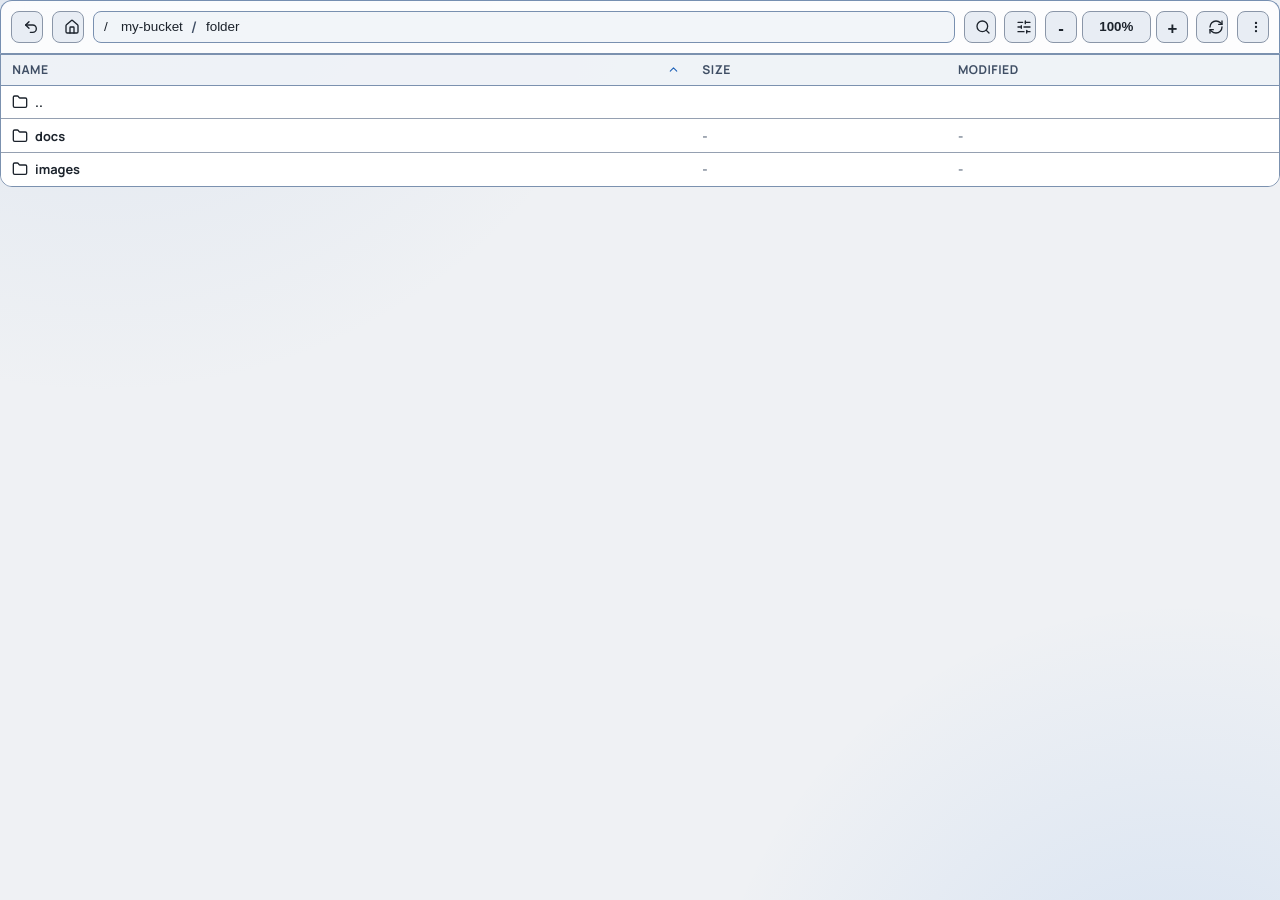
Test: BrowserPage breadcrumb editing › resets breadcrumb draft and hints when re-entering edit mode
Click the element with test id "breadcrumb-trail" at (524, 27), box [92, 11, 955, 43]
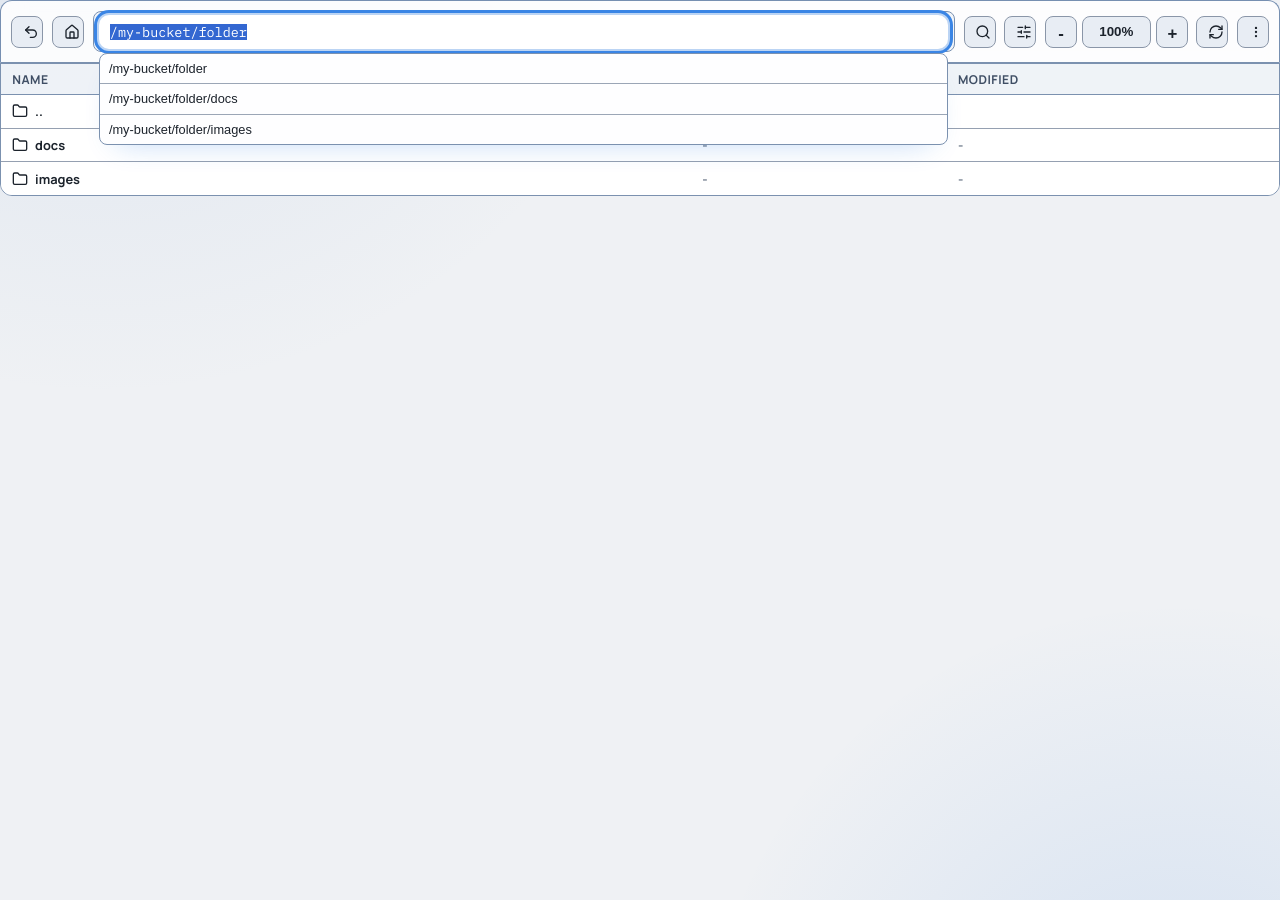
Replace the text in the field named "Breadcrumb path" with "/my-bucket/folder/do" at (524, 32), box [99, 15, 948, 48]
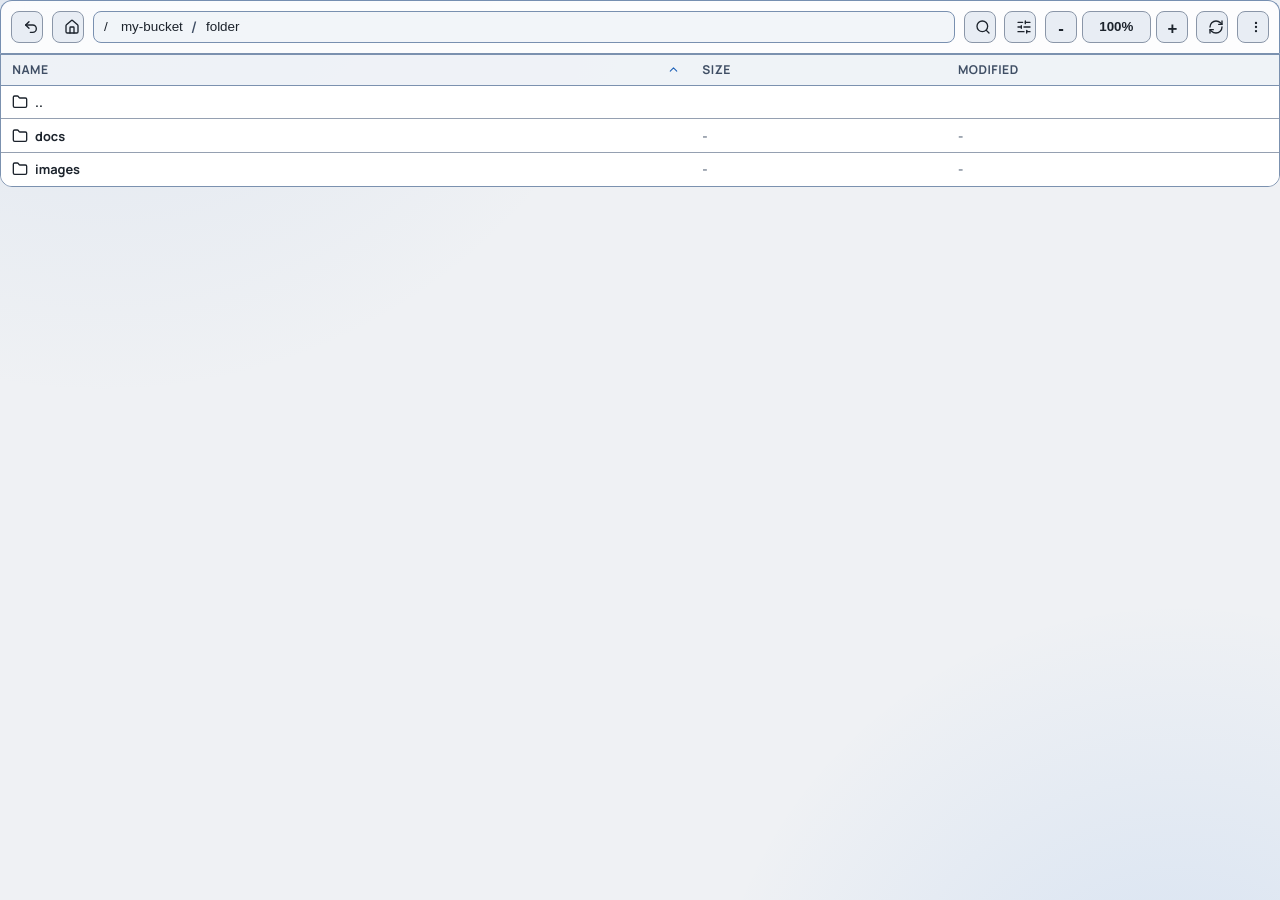
Click the element with test id "breadcrumb-trail" at (524, 27), box [92, 11, 955, 43]
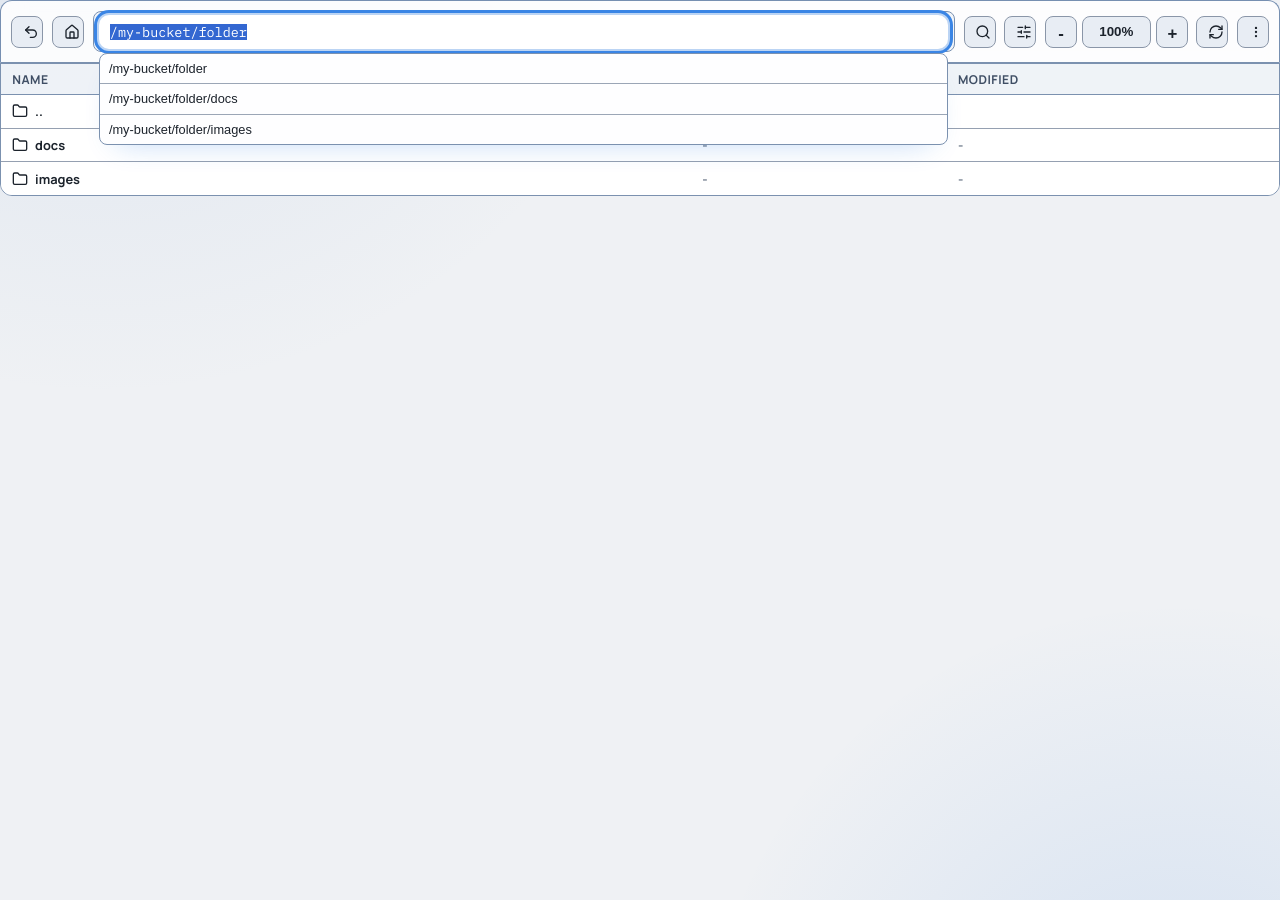
Expected: the field named "Breadcrumb path" holds "/my-bucket/folder", [99, 15, 948, 48]
Expected: the list with test id "breadcrumb-hints" shows "/my-bucket/folder/docs", [100, 84, 947, 115]
Expected: the list with test id "breadcrumb-hints" shows "/my-bucket/folder/images", [100, 115, 947, 144]
